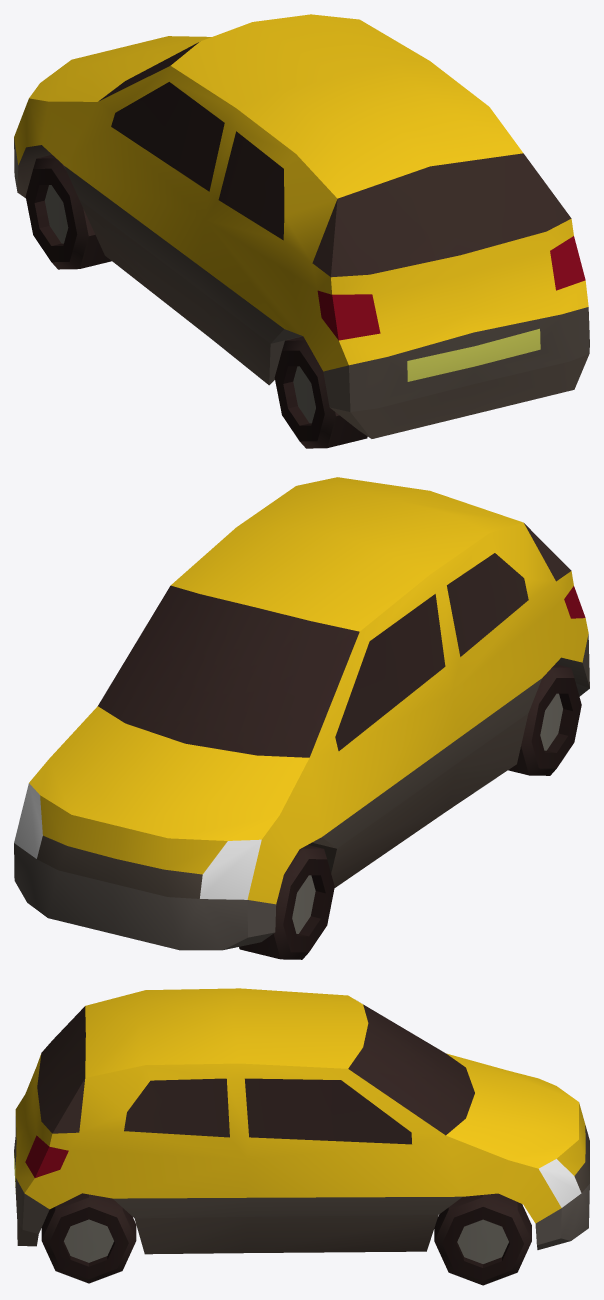
Rendered from carModel9.obj.
3 renders of one model, top to bottom at view 1: azimuth 30°, elevation 25°; view 2: azimuth 150°, elevation 25°; view 3: azimuth 270°, elevation 25°, orthographic. The views are drawn at different scales.
Visible parts, largest first — view 1: Car_Carrosserie, Car_Base; view 2: Car_Carrosserie, Car_Base; view 3: Car_Carrosserie, Car_Base.
Boxes of the visible parts, x1=… form: Car_Carrosserie: x1=14, y1=14, x2=588, y2=371; Car_Base: x1=14, y1=42, x2=589, y2=448; Car_Carrosserie: x1=29, y1=477, x2=588, y2=904; Car_Base: x1=14, y1=523, x2=589, y2=959; Car_Carrosserie: x1=15, y1=988, x2=585, y2=1223; Car_Base: x1=14, y1=1004, x2=589, y2=1285.
Bounding box in the file's own units: 1.94 × 1.98 × 4.67.
Materials: 3 (3 with a texture image).
